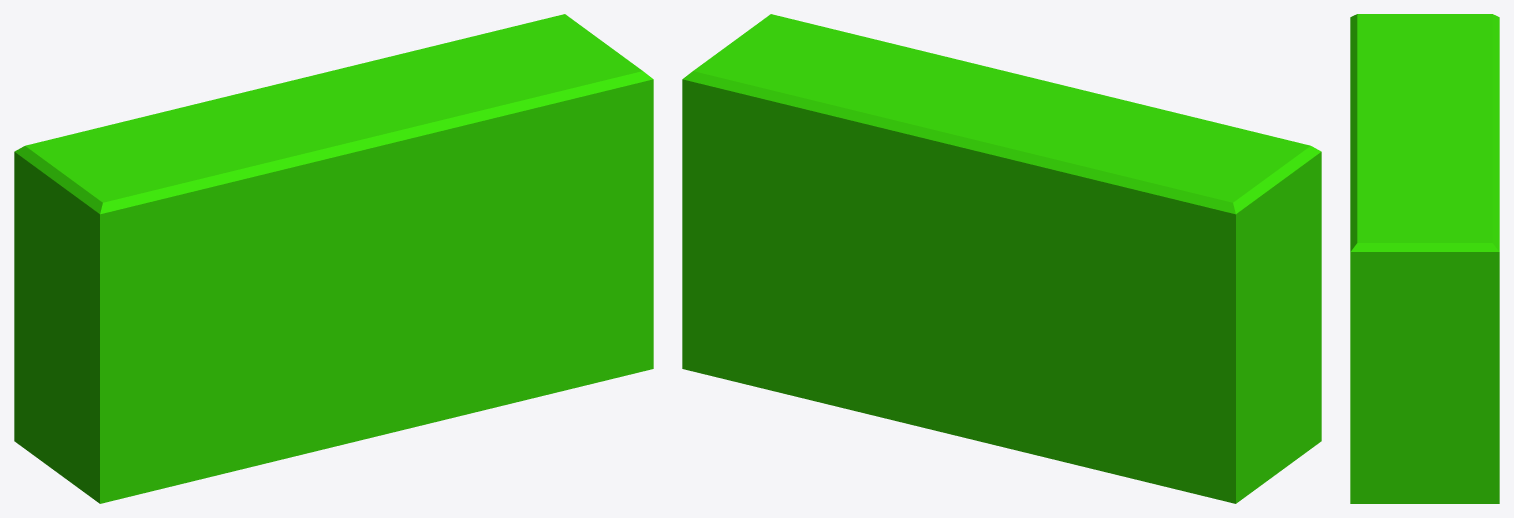
File: basic_4x2.fbx
3 renders of one model, left to right at view 1: azimuth 30°, elevation 25°; view 2: azimuth 150°, elevation 25°; view 3: azimuth 270°, elevation 25°, orthographic. The views are drawn at different scales.
Visible parts, largest first — view 1: basic_4x2; view 2: basic_4x2; view 3: basic_4x2.
Part boxes in pixels (x1,y1,x2,y2): basic_4x2: (14,14,653,503); basic_4x2: (682,14,1321,503); basic_4x2: (1350,14,1499,503).
Size of the model in its own units: 410 by 210 by 110.
